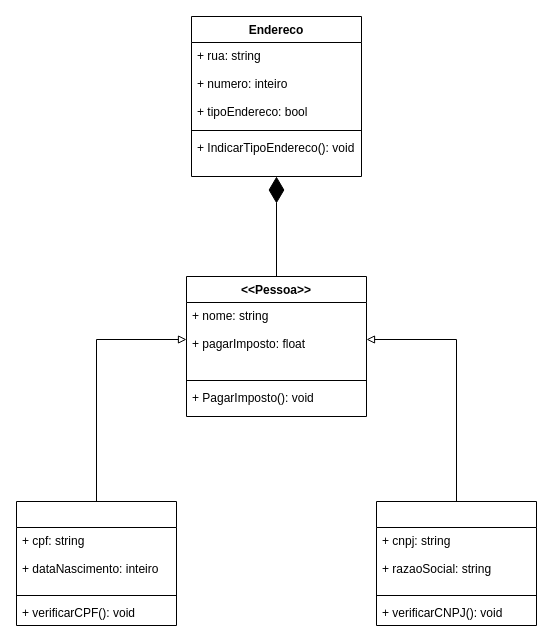
This 553x642 diagram has some shape labels left out. The shapes that lost their labels are listed below. From the top down, each one's box as (x1, y1, x2, y2) in pixels, then its label:
(16, 500, 176, 626): PessoaFisica
(376, 500, 536, 626): PessoaJuridica
